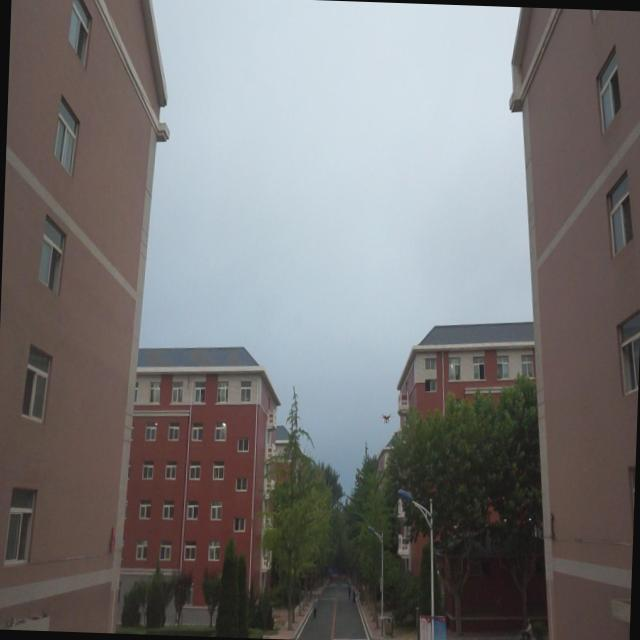drone: (379, 407, 393, 427)
